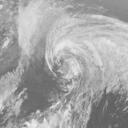cyclone: (46, 39, 89, 82)
